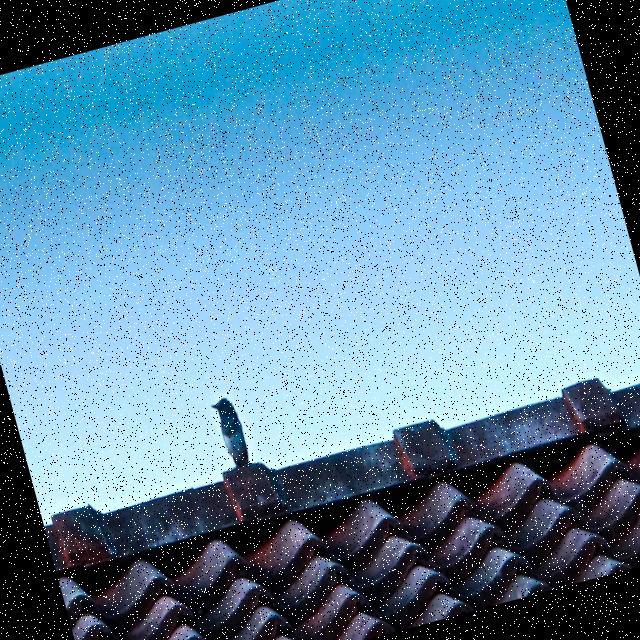bird: (208, 393, 253, 471)
